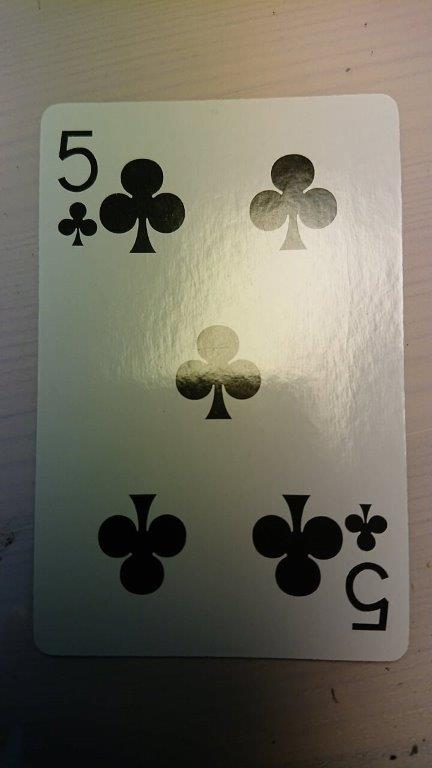5C: (29, 89, 412, 664)
